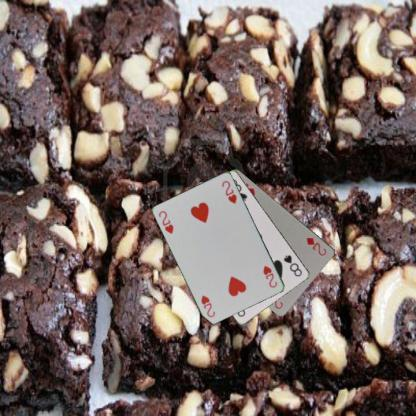2d: (304, 234, 328, 257)
2h: (157, 208, 176, 235), (260, 263, 278, 289)
8s: (282, 252, 304, 278)
